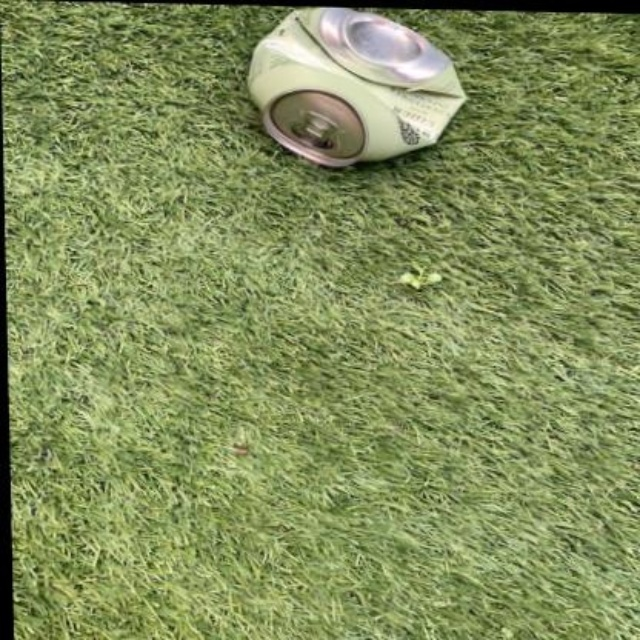trash: (248, 8, 463, 165)
